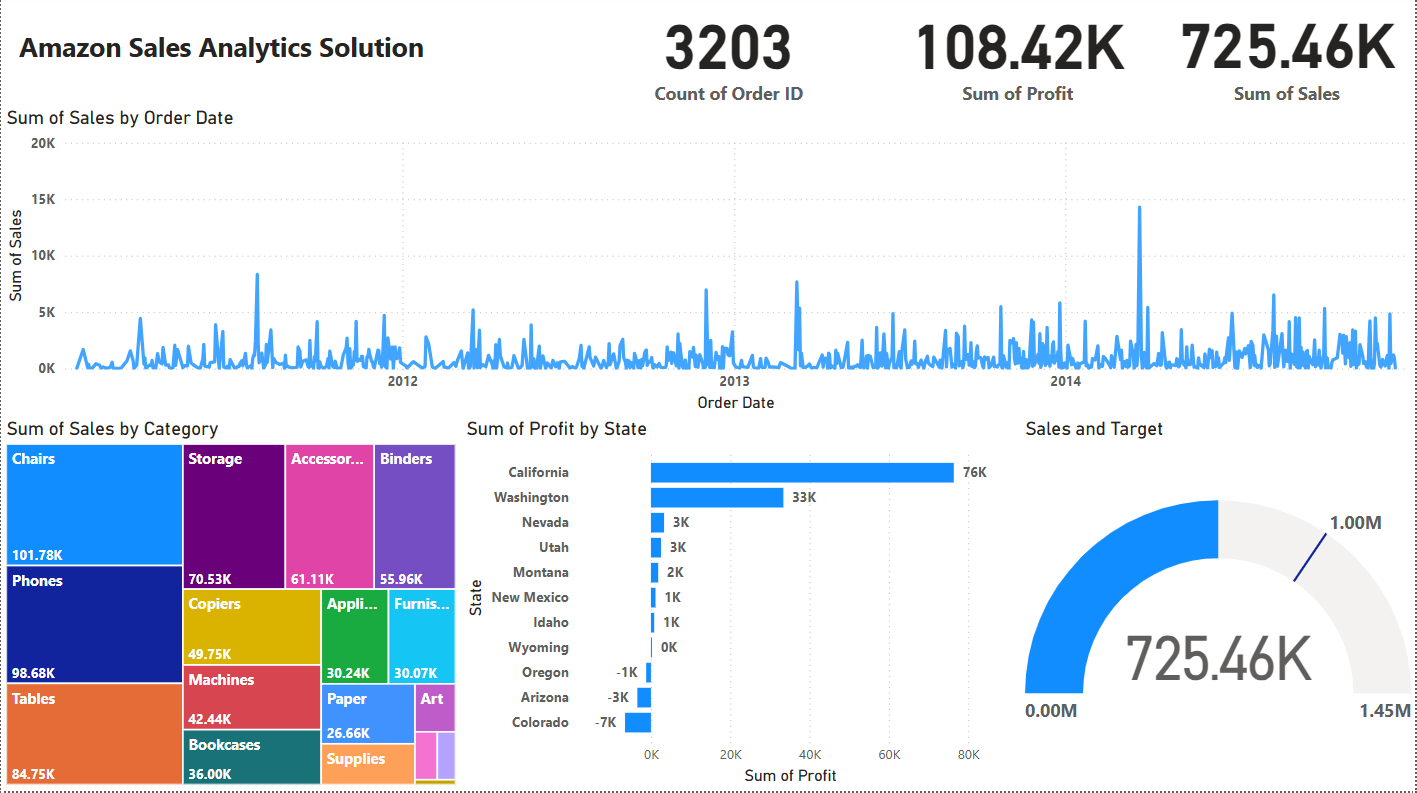

Layout of this report page (visuals, bound fields, positions):
{"tool":"powerbi","page":{"name":"Page 1","canvas":[1280,720],"ordinal":0},"visuals":[{"type":"card","fields":{"Values":["Sum(Walmart.Sales)"]},"box":[1045.4,0,234.9,101.2],"z":0},{"type":"card","fields":{"Values":["Sum(Walmart.Profit)"]},"box":[795.4,0,250,101.2],"z":1000},{"type":"card","fields":{"Values":["CountNonNull(Walmart.Order ID)"]},"box":[520.9,0,274.4,101.2],"z":2000},{"type":"lineChart","fields":{"Category":["Walmart.Order Date"],"Y":["Sum(Walmart.Sales)"]},"box":[0,101.2,1280.2,281.4],"z":3000},{"type":"treemap","fields":{"Group":["Walmart.Category"],"Values":["Sum(Walmart.Sales)"]},"box":[0,382.6,416.3,337.2],"z":4000},{"type":"barChart","fields":{"Category":["Walmart.State "],"Y":["Sum(Walmart.Profit)"]},"box":[416.3,382.6,504.7,337.2],"z":4001},{"type":"gauge","title":"Sales and Target","fields":{"Y":["Sum(Walmart.Sales)"]},"box":[920.9,382.6,359.3,337.2],"z":4002},{"type":"textbox","box":[11.6,25.6,439.5,51.2],"z":4003}]}

Visuals, with their boxes in screenshot pixels (x1, y1, x2, y2), scaled from the page's 1280x720 canvas onto the 1417x793 screenshot:
card - Sum(Walmart.Sales): select_region(1157, 0, 1416, 111)
card - Sum(Walmart.Profit): select_region(881, 0, 1157, 111)
card - CountNonNull(Walmart.Order ID): select_region(577, 0, 880, 111)
lineChart - Walmart.Order Date x Sum(Walmart.Sales): select_region(0, 111, 1416, 421)
treemap - Walmart.Category x Sum(Walmart.Sales): select_region(0, 421, 461, 792)
barChart - Walmart.State  x Sum(Walmart.Profit): select_region(461, 421, 1020, 792)
"Sales and Target" gauge: select_region(1019, 421, 1416, 792)
textbox: select_region(13, 28, 499, 85)
